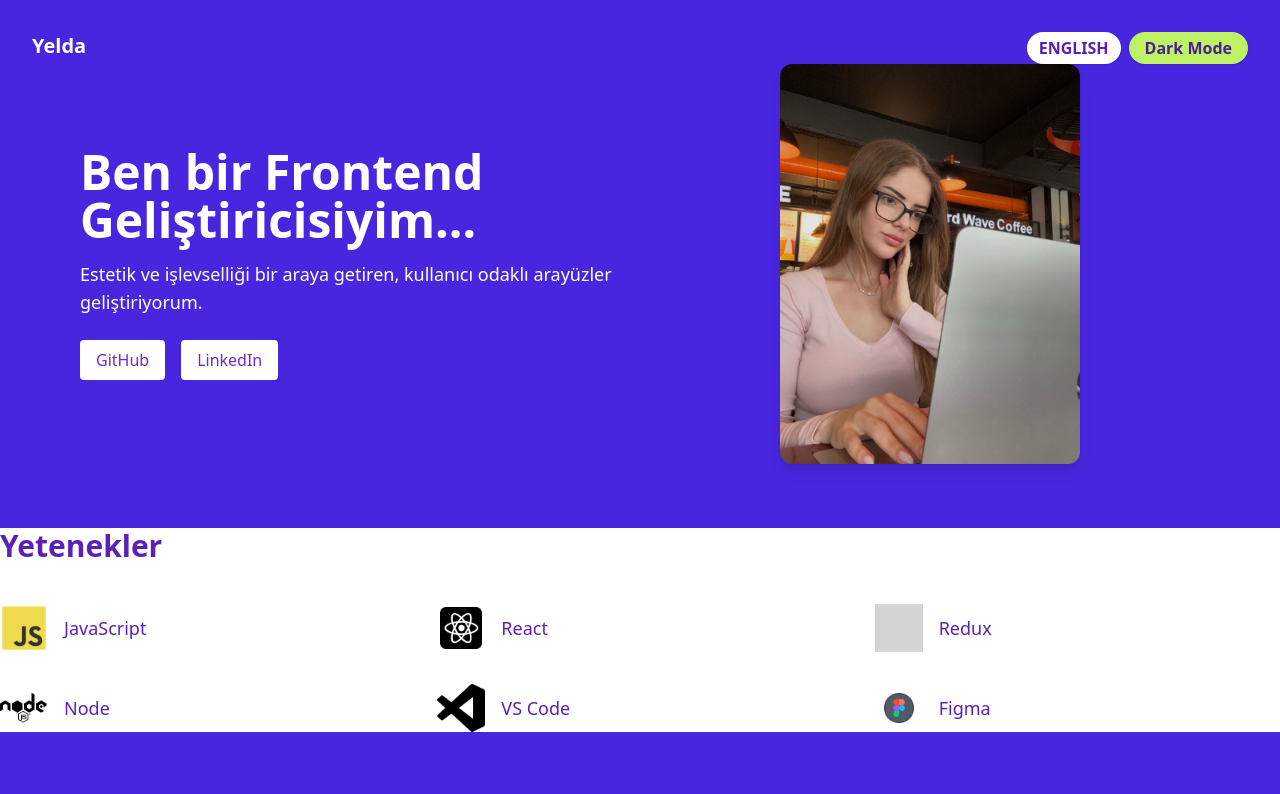
Test: Tema (Dark Mode) Testi › Tema butonu görünmeli ve tıklanabilir olmalı
Click the button "Dark Mode".
click(1189, 48)  # box left=1129, top=32, right=1248, bottom=64
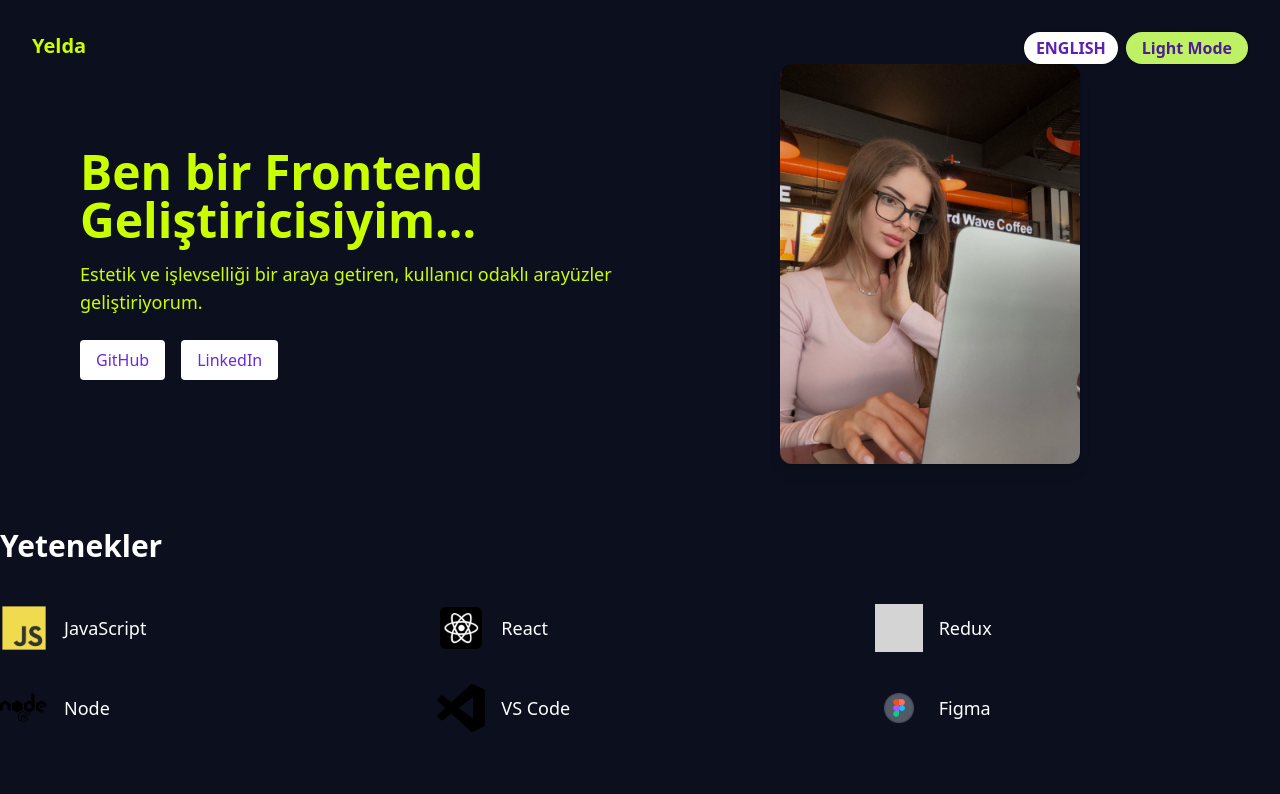
expect the button "Light Mode" is shown: met, box left=1126, top=32, right=1248, bottom=64
